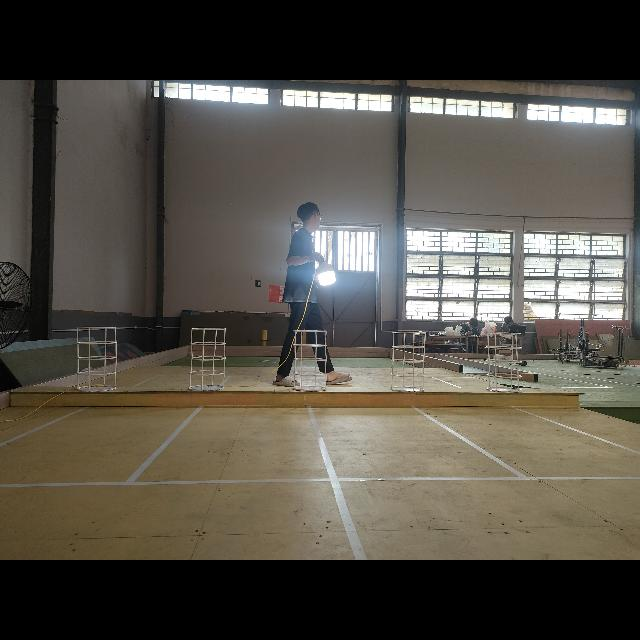S: (73, 327, 125, 398), (188, 324, 232, 394), (386, 326, 430, 394), (482, 325, 526, 393), (288, 327, 332, 391)
